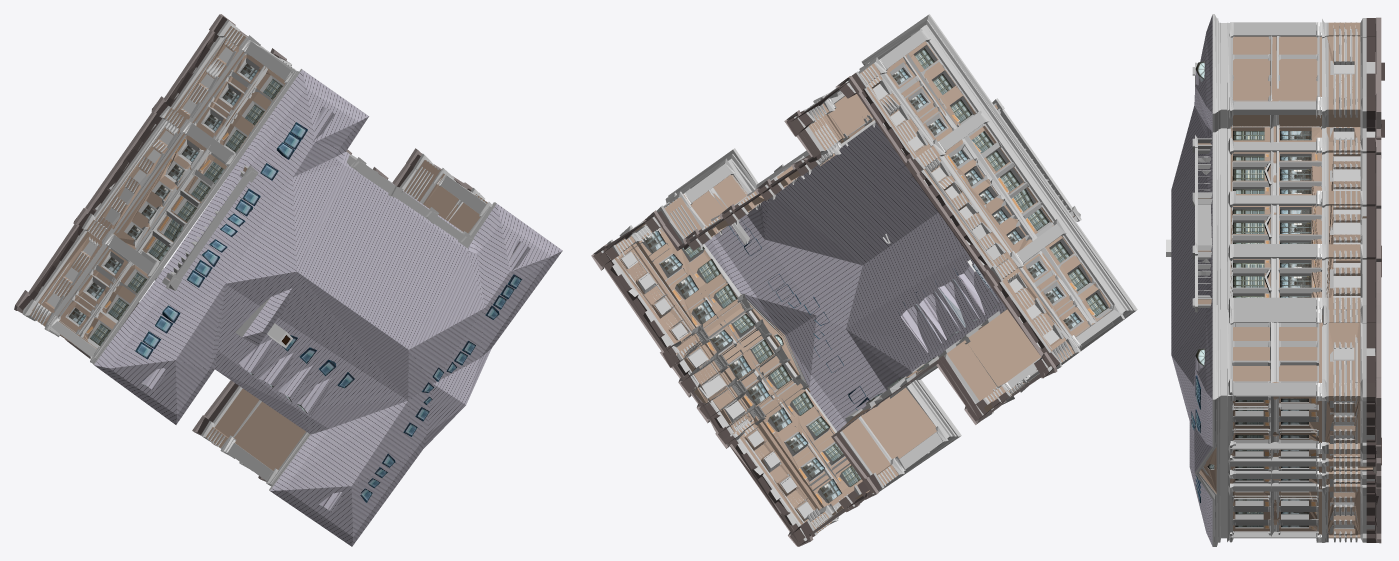
Rendered from Estonia_6_1-origo.obj.
3 views of the same model, side by side, from view 1: azimuth 30°, elevation 25°; view 2: azimuth 150°, elevation 25°; view 3: azimuth 270°, elevation 25° (orthographic). The views are drawn at different scales.
Visible parts, largest first — view 1: Mesh_Estonia_6_1; view 2: Mesh_Estonia_6_1; view 3: Mesh_Estonia_6_1.
Part boxes in pixels (left/top/right/bottom): Mesh_Estonia_6_1: left=14, top=14, right=562, bottom=546; Mesh_Estonia_6_1: left=591, top=14, right=1137, bottom=546; Mesh_Estonia_6_1: left=1166, top=14, right=1384, bottom=546.
Size of the model in its own units: 58.12 by 58 by 22.65.
